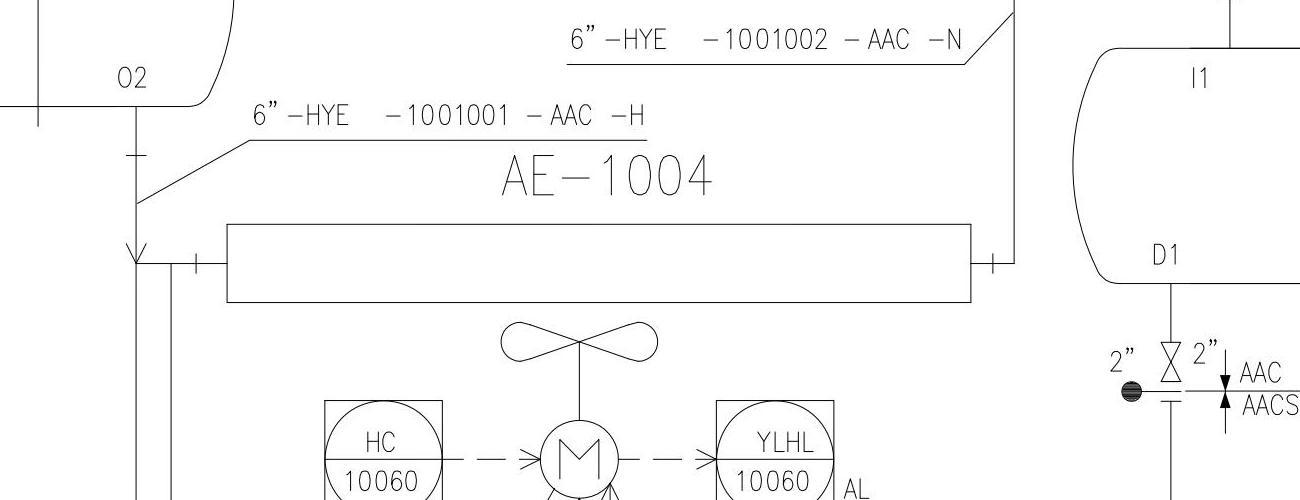AE: (216, 208, 985, 499)
GV: (1155, 337, 1185, 385)
